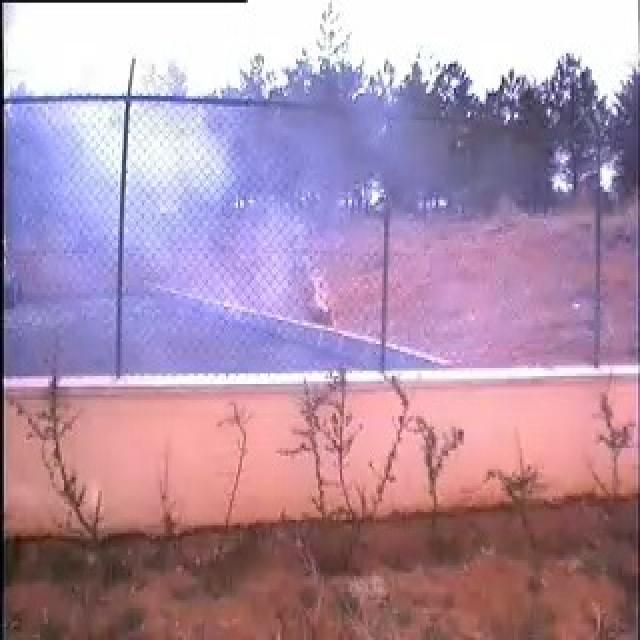smoke: (27, 101, 306, 354)
